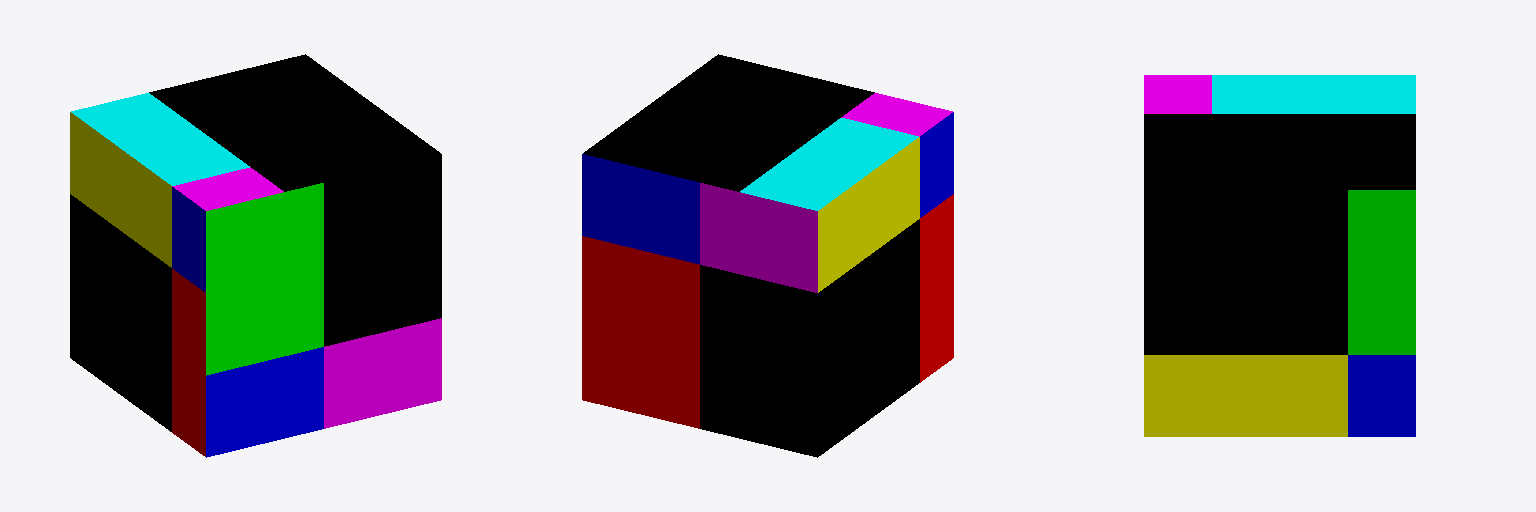
3 renders of one model, left to right at view 1: azimuth 30°, elevation 25°; view 2: azimuth 150°, elevation 25°; view 3: azimuth 270°, elevation 25°, orthographic.
Visible parts, largest first — view 1: color_cube; view 2: color_cube; view 3: color_cube.
Part boxes in pixels (bbox=[...]): color_cube: bbox=[70, 54, 441, 457]; color_cube: bbox=[582, 54, 953, 457]; color_cube: bbox=[1144, 75, 1415, 436].
Bounding box in the file's own units: 2 × 2 × 2.
Materials: 1 (1 with a texture image).